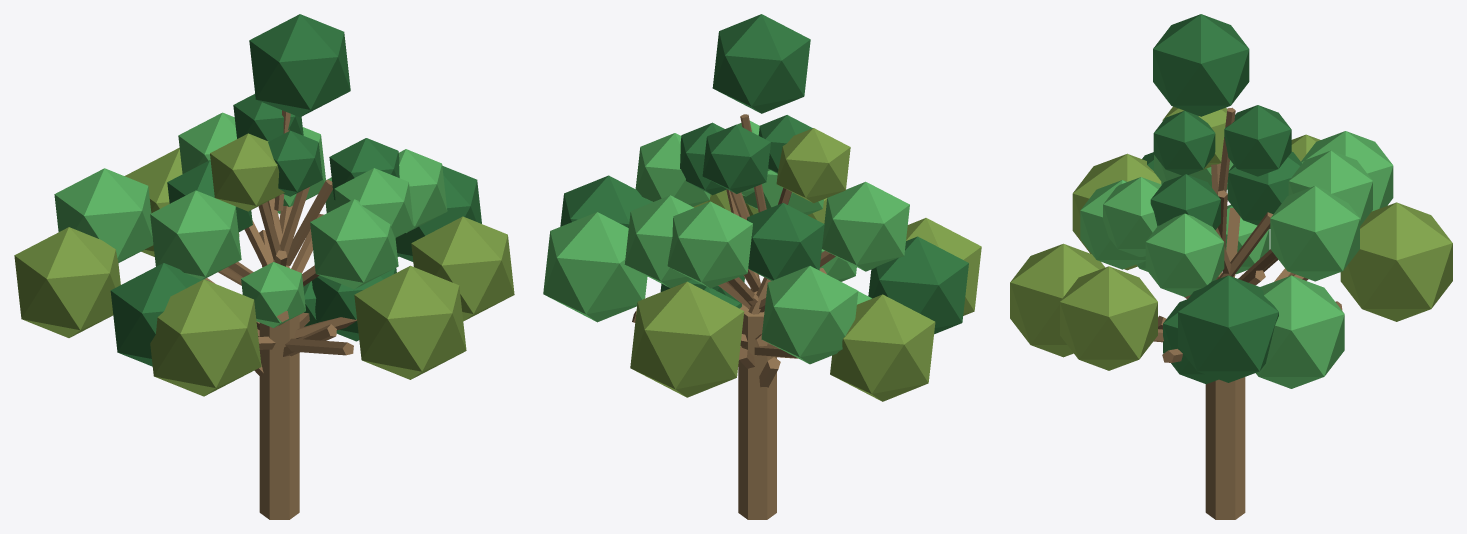
Rendered from Tree_17.glb.
3 renders of one model, left to right at view 1: azimuth 30°, elevation 25°; view 2: azimuth 150°, elevation 25°; view 3: azimuth 270°, elevation 25°, orthographic. The views are drawn at different scales.
Visible parts, largest first — view 1: T17_Sphere_09, T17_Sphere_05, T17_Sphere_08, T17_Sphere_03, T17_Trunk, T17_Sphere_10, T17_Sphere_18, T17_Sphere_12, T17_Sphere_14, T17_Sphere_13, T17_Sphere_23, T17_Sphere_19 (+15 smaller); view 2: T17_Sphere_07, T17_Sphere_11, T17_Sphere_08, T17_Sphere_03, T17_Sphere_12, T17_Trunk, T17_Sphere_18, T17_Sphere_13, T17_Sphere_20, T17_Sphere_17, T17_Sphere_23, T17_Sphere_16 (+8 smaller); view 3: T17_Sphere_07, T17_Sphere_06, T17_Sphere_10, T17_Sphere_03, T17_Sphere_11, T17_Sphere_16, T17_Sphere_05, T17_Trunk, T17_Sphere_15, T17_Sphere_22, T17_Sphere_19, T17_Sphere_20 (+13 smaller).
Part boxes in pixels (bbox=[...]): T17_Sphere_09: bbox=[150, 279, 261, 396]; T17_Sphere_05: bbox=[354, 265, 466, 379]; T17_Sphere_08: bbox=[14, 227, 120, 337]; T17_Sphere_03: bbox=[249, 14, 350, 117]; T17_Trunk: bbox=[259, 315, 299, 519]; T17_Sphere_10: bbox=[411, 216, 514, 321]; T17_Sphere_18: bbox=[150, 190, 241, 279]; T17_Sphere_12: bbox=[54, 168, 153, 262]; T17_Sphere_14: bbox=[310, 199, 398, 289]; T17_Sphere_13: bbox=[110, 263, 209, 366]; T17_Sphere_23: bbox=[210, 133, 284, 211]; T17_Sphere_19: bbox=[334, 168, 413, 237]; T17_Sphere_07: bbox=[630, 281, 744, 397]; T17_Sphere_11: bbox=[543, 212, 647, 322]; T17_Sphere_08: bbox=[830, 294, 935, 401]; T17_Sphere_03: bbox=[712, 14, 810, 113]; T17_Sphere_12: bbox=[761, 266, 858, 364]; T17_Trunk: bbox=[738, 305, 776, 519]; T17_Sphere_18: bbox=[822, 181, 909, 271]; T17_Sphere_13: bbox=[868, 236, 968, 334]; T17_Sphere_20: bbox=[667, 201, 752, 288]; T17_Sphere_17: bbox=[747, 203, 824, 280]; T17_Sphere_23: bbox=[776, 128, 850, 203]; T17_Sphere_16: bbox=[624, 195, 693, 287]; T17_Sphere_07: bbox=[1340, 202, 1452, 321]; T17_Sphere_06: bbox=[1178, 275, 1278, 382]; T17_Sphere_10: bbox=[1060, 266, 1157, 370]; T17_Sphere_03: bbox=[1153, 14, 1249, 116]; T17_Sphere_11: bbox=[1256, 275, 1344, 388]; T17_Sphere_16: bbox=[1270, 186, 1359, 281]; T17_Sphere_05: bbox=[1010, 243, 1104, 357]; T17_Trunk: bbox=[1205, 377, 1245, 519]; T17_Sphere_15: bbox=[1145, 213, 1224, 296]; T17_Sphere_22: bbox=[1224, 105, 1291, 176]; T17_Sphere_19: bbox=[1103, 177, 1161, 256]; T17_Sphere_20: bbox=[1288, 150, 1372, 225].
Size of the model in its own units: 2.9 by 3.36 by 2.68.
